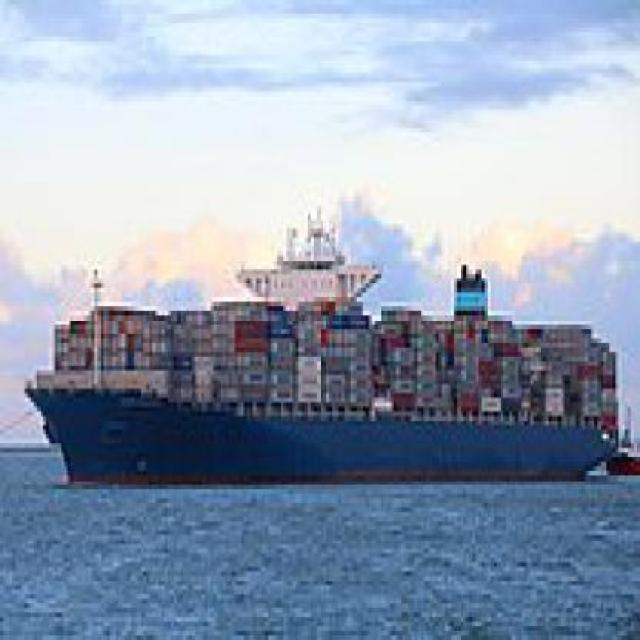container: (25, 175, 623, 486)
